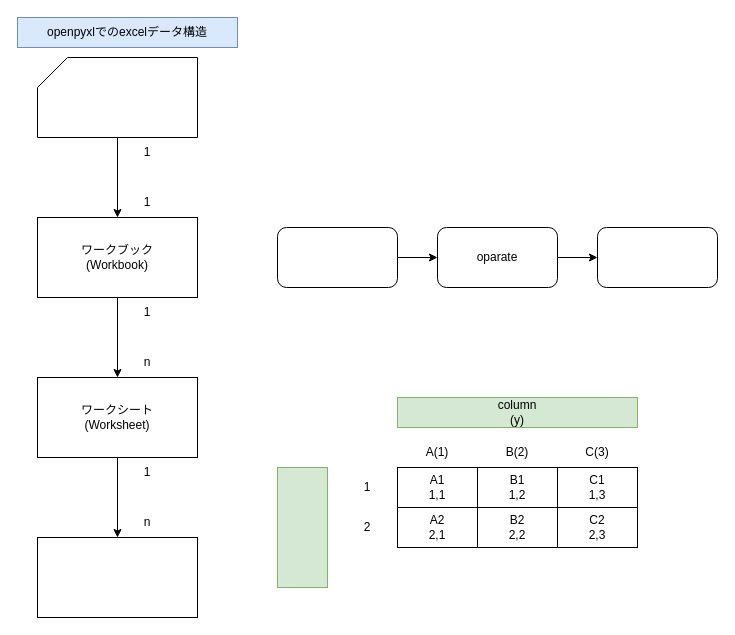
The diagram is 735 pixels wide and 635 high, and some of its shapes have lost their labels. The shapes that lost their labels are listed below. From the top down, each one's centre as x and y in pixels, then its label:
At pixel 117 97: "ファイル".
At pixel 337 257: "open (read)".
At pixel 657 257: "save close".
At pixel 302 527: "row (x)".
At pixel 117 577: "セル (Cell)".
